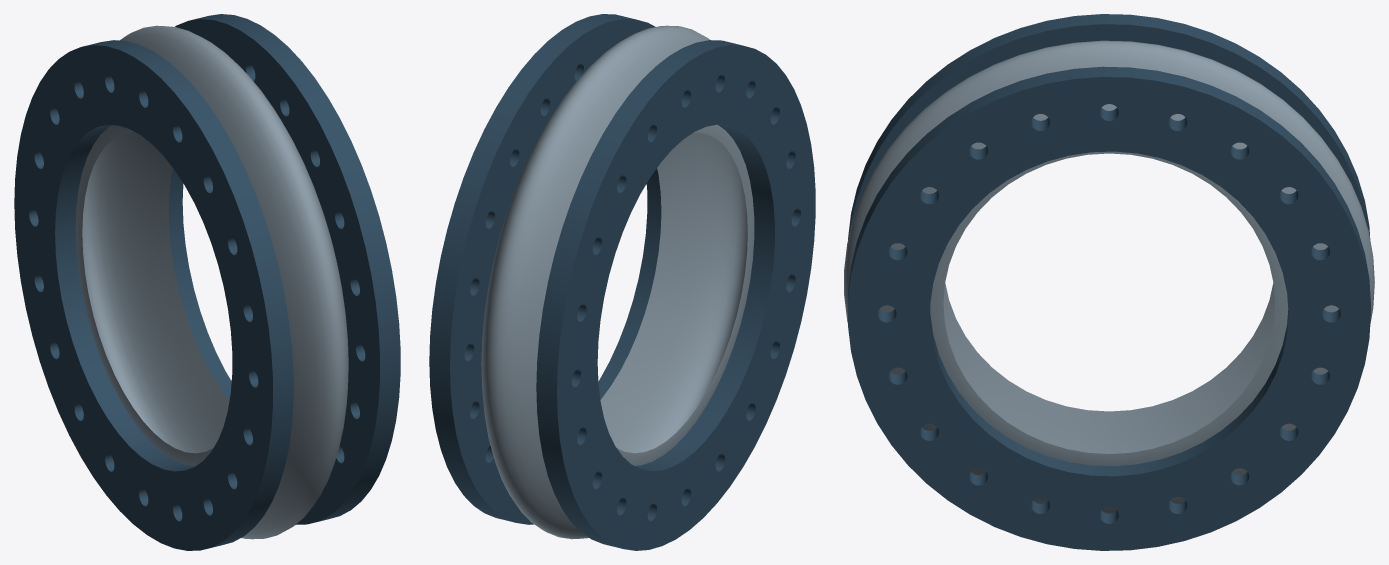
The picture shows the model from 3 angles, left to right: view 1: azimuth 30°, elevation 25°; view 2: azimuth 150°, elevation 25°; view 3: azimuth 270°, elevation 25°; orthographic projection.
Parts seen in each view (by area): view 1: homut_flanec_1, rebro_vstavka_rezina, homut_flanec_2; view 2: homut_flanec_1, rebro_vstavka_rezina, homut_flanec_2; view 3: homut_flanec_2, rebro_vstavka_rezina, homut_flanec_1.
Boxes of the visible parts, x1,y1,x2,y2 form: homut_flanec_1: (14, 40, 293, 550); rebro_vstavka_rezina: (75, 25, 348, 539); homut_flanec_2: (168, 14, 400, 524); homut_flanec_1: (536, 40, 815, 550); rebro_vstavka_rezina: (481, 25, 754, 539); homut_flanec_2: (429, 14, 661, 524); homut_flanec_2: (848, 66, 1370, 550); rebro_vstavka_rezina: (844, 40, 1374, 513); homut_flanec_1: (848, 14, 1370, 239).
Size of the model in its own units: 260 by 927 by 927.
